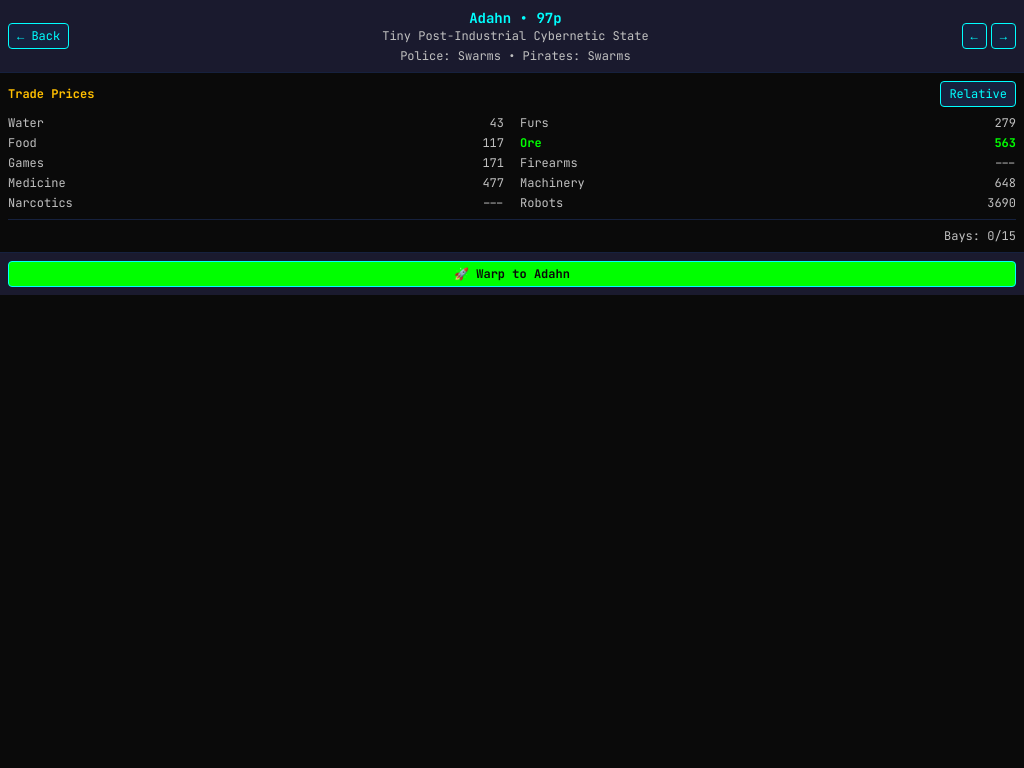
Test: DestinationScreen › Insufficient Resources Scenarios › should handle insufficient credits scenario
Click the button with test id "warp-button" at (512, 274), box left=8, top=261, right=1016, bottom=287
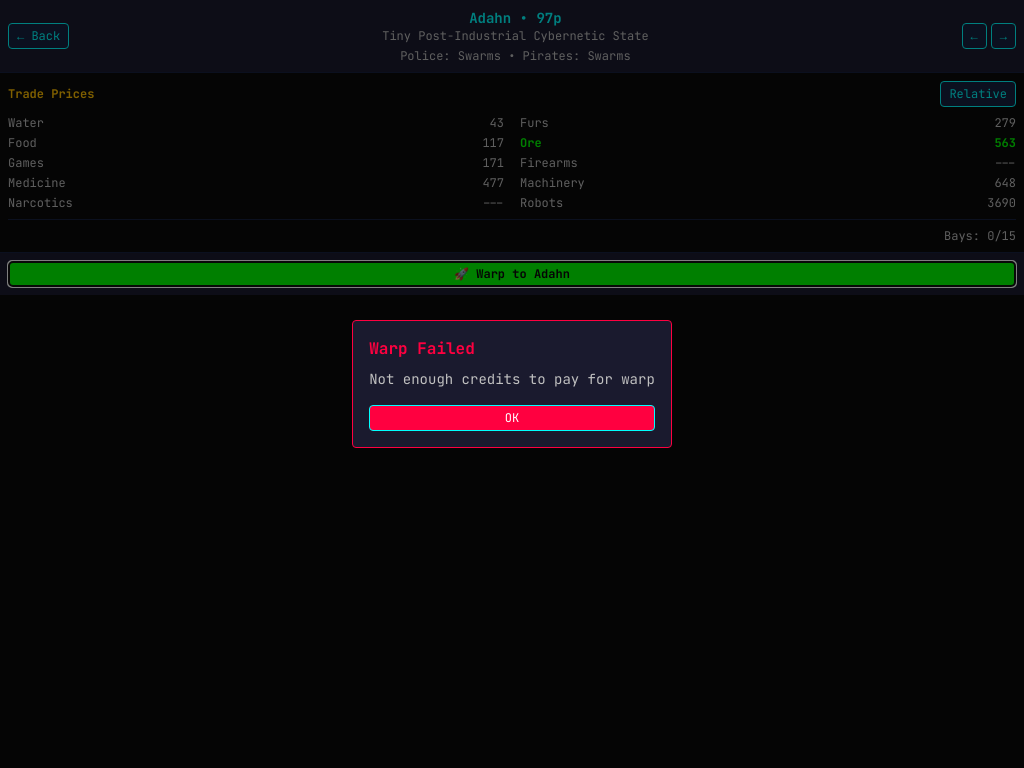
Expected: the text with test id "error-message" shows "Not enough credits", left=369, top=370, right=655, bottom=388
